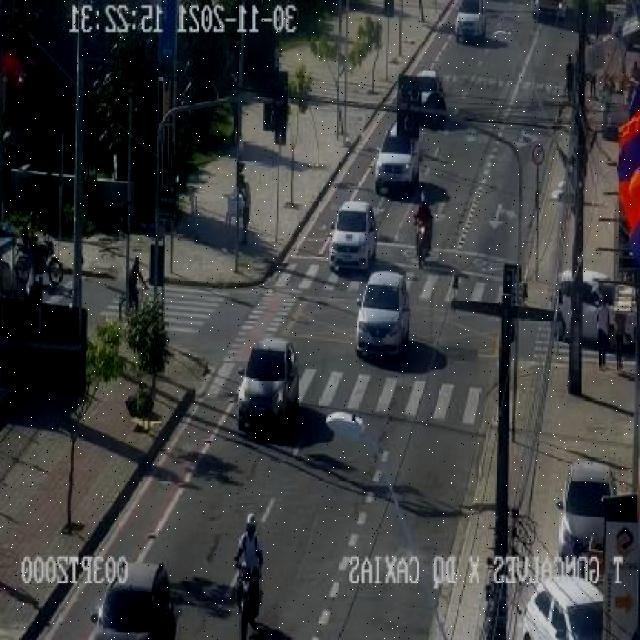Car: (89, 559, 178, 640), (236, 339, 300, 435), (557, 461, 618, 558), (552, 270, 623, 346), (354, 269, 411, 360), (522, 576, 604, 638), (329, 201, 379, 273), (376, 124, 419, 195), (454, 0, 486, 42), (533, 0, 569, 25)
Cycle: (228, 554, 266, 640), (15, 237, 64, 287), (412, 214, 433, 268)
